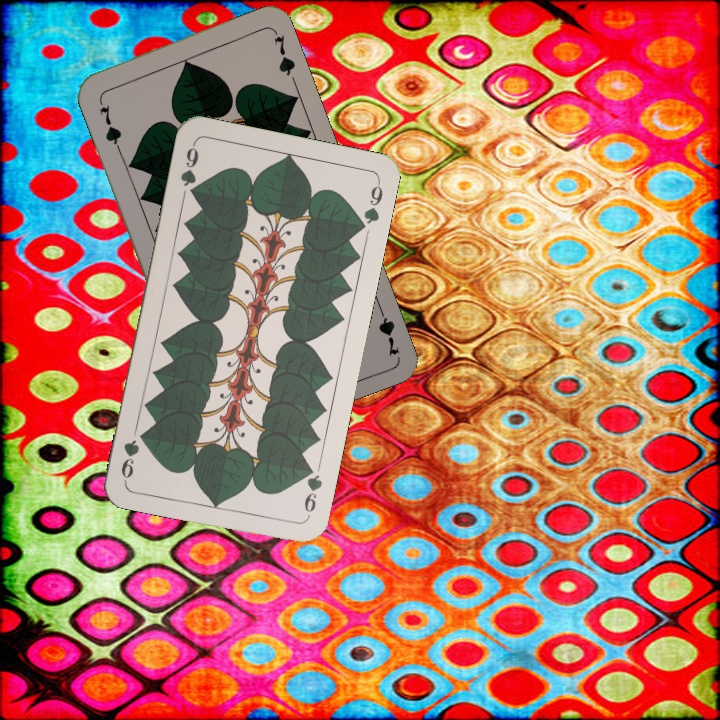G7: (373, 299, 402, 359), (94, 94, 124, 151)
G9: (176, 139, 201, 200), (300, 460, 325, 520)
